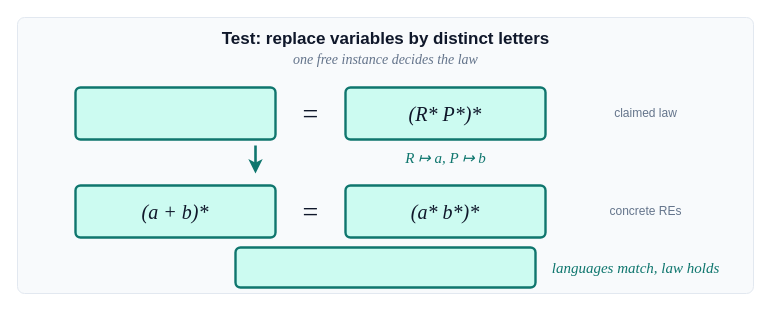
Some shapes in this 771 by 311 pixel diagram are drawn without their labels. Each missing label, with the centre of its shape:
(R + P)*: the point at 175,113
{a, b}*: the point at 385,267
